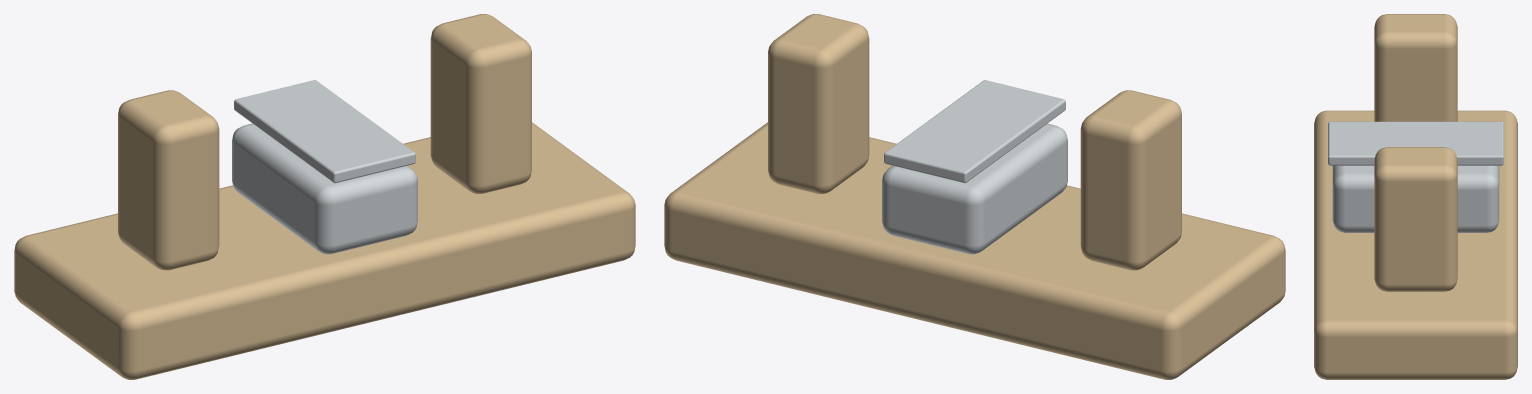
Rendered from candlemaking-and-soap-workshop-soap-beveling-plane-72d6f42c__30680.glb.
The picture shows the model from 3 angles, left to right: view 1: azimuth 30°, elevation 25°; view 2: azimuth 150°, elevation 25°; view 3: azimuth 270°, elevation 25°; orthographic projection. The views are drawn at different scales.
Parts seen in each view (by area): view 1: soap-beveling-plane; view 2: soap-beveling-plane; view 3: soap-beveling-plane.
Boxes of the visible parts, x1,y1,x2,y2 form: soap-beveling-plane: (14,14,635,379); soap-beveling-plane: (664,14,1285,379); soap-beveling-plane: (1314,14,1517,379).
Size of the model in its own units: 0.28 by 0.11 by 0.11.
